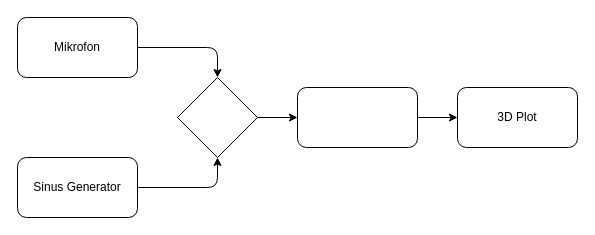
The diagram is 595 pixels wide and 235 high, and some of its shapes have lost their labels. Here are the shapes that lost their labels. From the top down, the centre of each, then its label:
At point 217,117: "ODER".
At point 357,117: "FFT".
